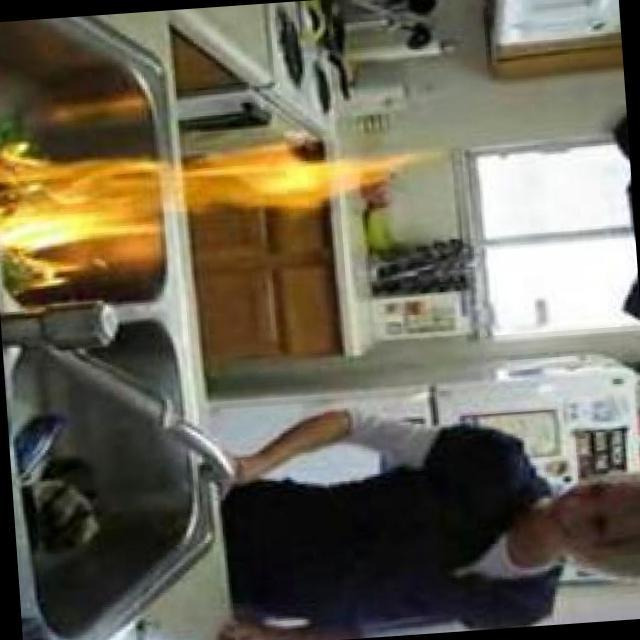Fire: (1, 123, 445, 289)
